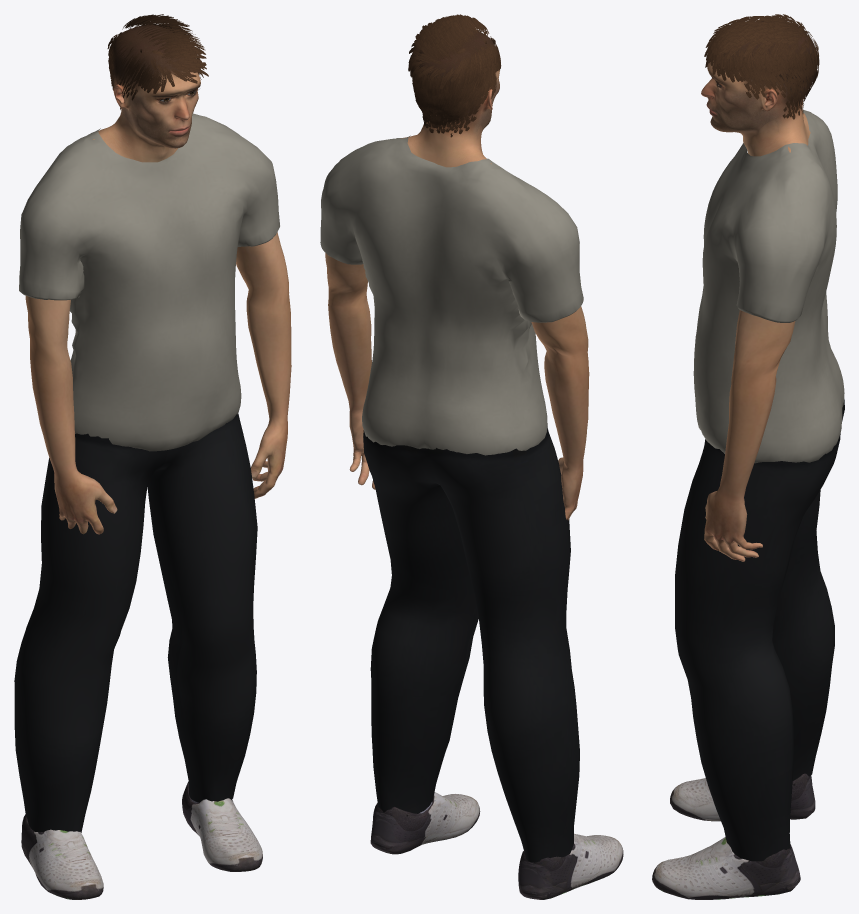
Rendered from premium-male-01.glb.
3 views of the same model, side by side, from view 1: azimuth 30°, elevation 25°; view 2: azimuth 150°, elevation 25°; view 3: azimuth 270°, elevation 25° (orthographic). The views are drawn at different scales.
Parts seen in each view (by area): view 1: male_casualsuit06, body, shoes05, hair; view 2: male_casualsuit06, body, shoes05, hair; view 3: male_casualsuit06, body, shoes05, hair.
Boxes of the visible parts, <box> form: male_casualsuit06: <box>14,113,279,832</box>; body: <box>25,24,291,534</box>; shoes05: <box>21,781,262,899</box>; hair: <box>107,14,208,109</box>; male_casualsuit06: <box>320,135,583,862</box>; body: <box>325,30,589,520</box>; shoes05: <box>370,792,623,899</box>; hair: <box>408,14,501,137</box>; male_casualsuit06: <box>675,110,844,861</box>; body: <box>701,21,817,561</box>; shoes05: <box>652,773,815,899</box>; hair: <box>704,14,819,119</box>.
Size of the model in its own units: 0.5879 by 1.79 by 0.3664.
7 materials, 7 textured.
